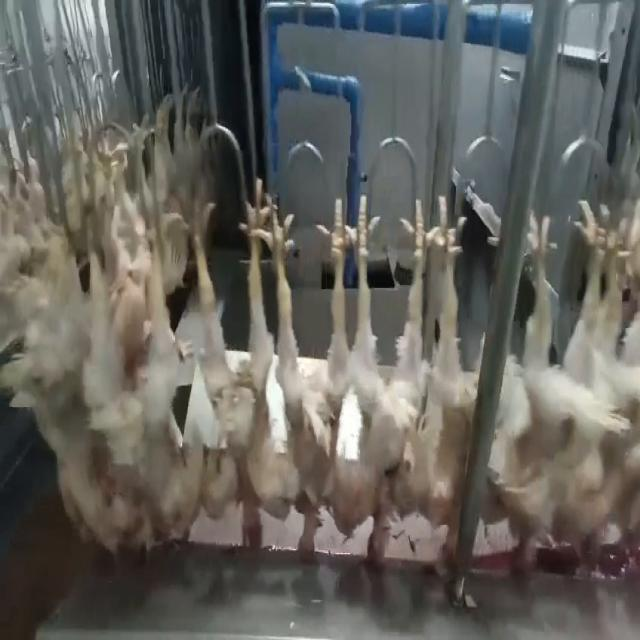chicken: (164, 165, 278, 558), (334, 190, 429, 572), (72, 180, 169, 552), (394, 187, 478, 578), (554, 187, 640, 568), (263, 197, 345, 562), (489, 206, 554, 587)
